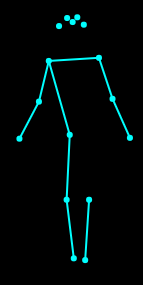mountain: (16, 11, 136, 266)
